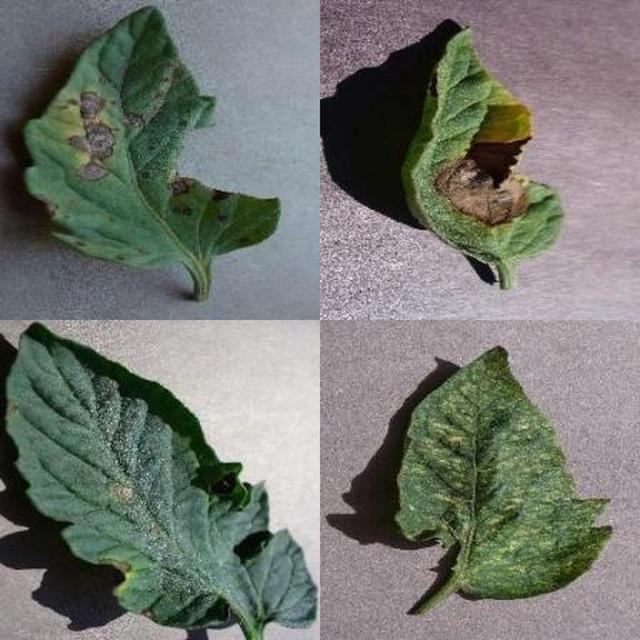Early Blight Leaf: (220, 192, 640, 640)
